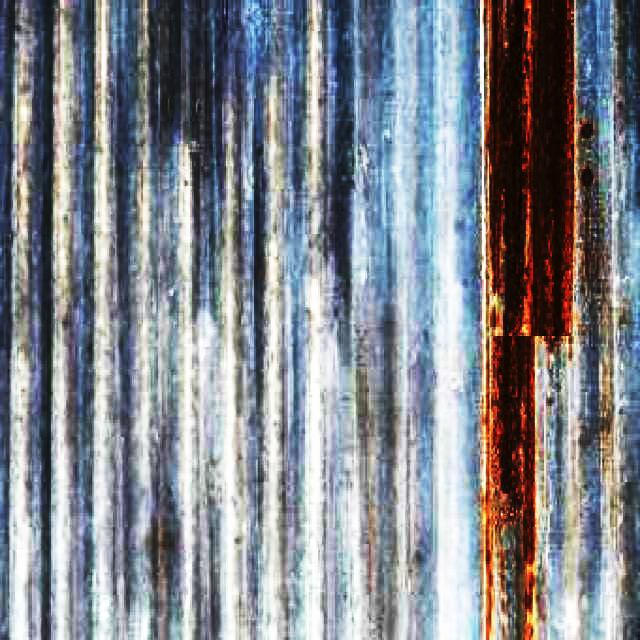Corrosion: (486, 0, 576, 640), (583, 168, 595, 186), (583, 122, 594, 137)
